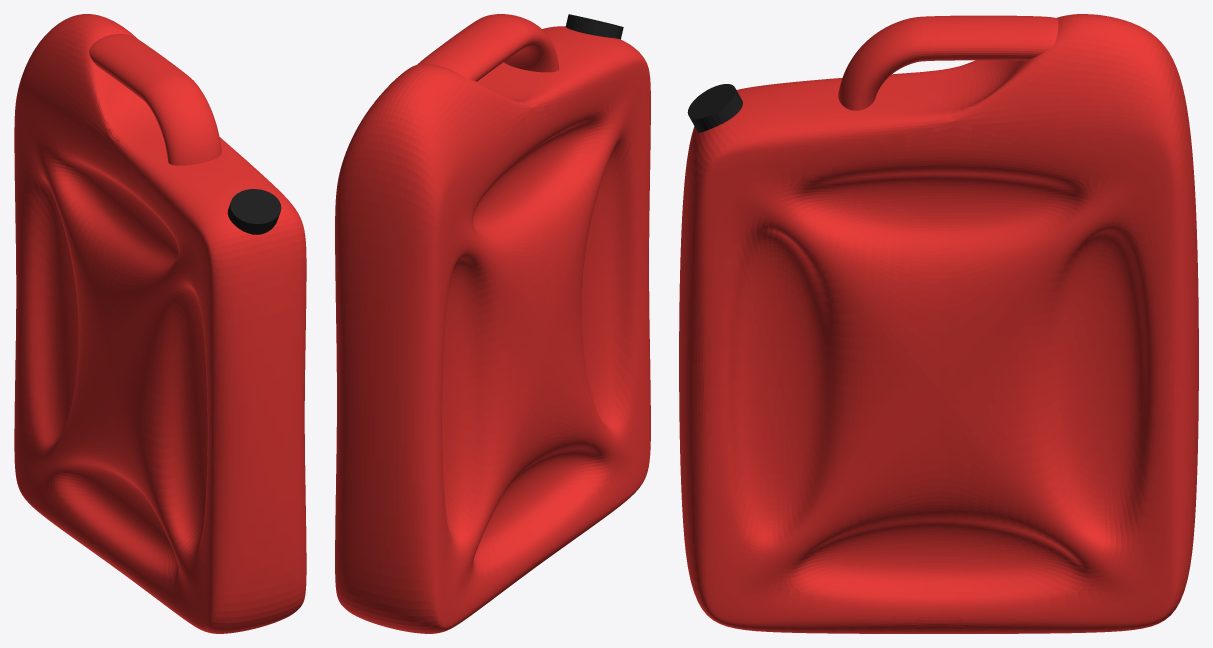
The model's file is GasolineCan.fbx.
3 views of the same model, side by side, from view 1: azimuth 30°, elevation 25°; view 2: azimuth 150°, elevation 25°; view 3: azimuth 270°, elevation 25° (orthographic). The views are drawn at different scales.
Visible parts, largest first — view 1: Cube, Torus, Cylinder; view 2: Cube, Torus, Cylinder; view 3: Cube, Torus, Cylinder.
Boxes of the visible parts, x1,y1,x2,y2 form: Cube: (14, 14, 306, 633); Torus: (89, 34, 221, 165); Cylinder: (227, 189, 281, 234); Cube: (335, 26, 650, 633); Torus: (417, 14, 559, 81); Cylinder: (565, 14, 623, 39); Cube: (679, 14, 1198, 633); Torus: (838, 15, 1058, 110); Cylinder: (687, 84, 742, 132).
Size of the model in its own units: 33.45 by 163 by 127.
